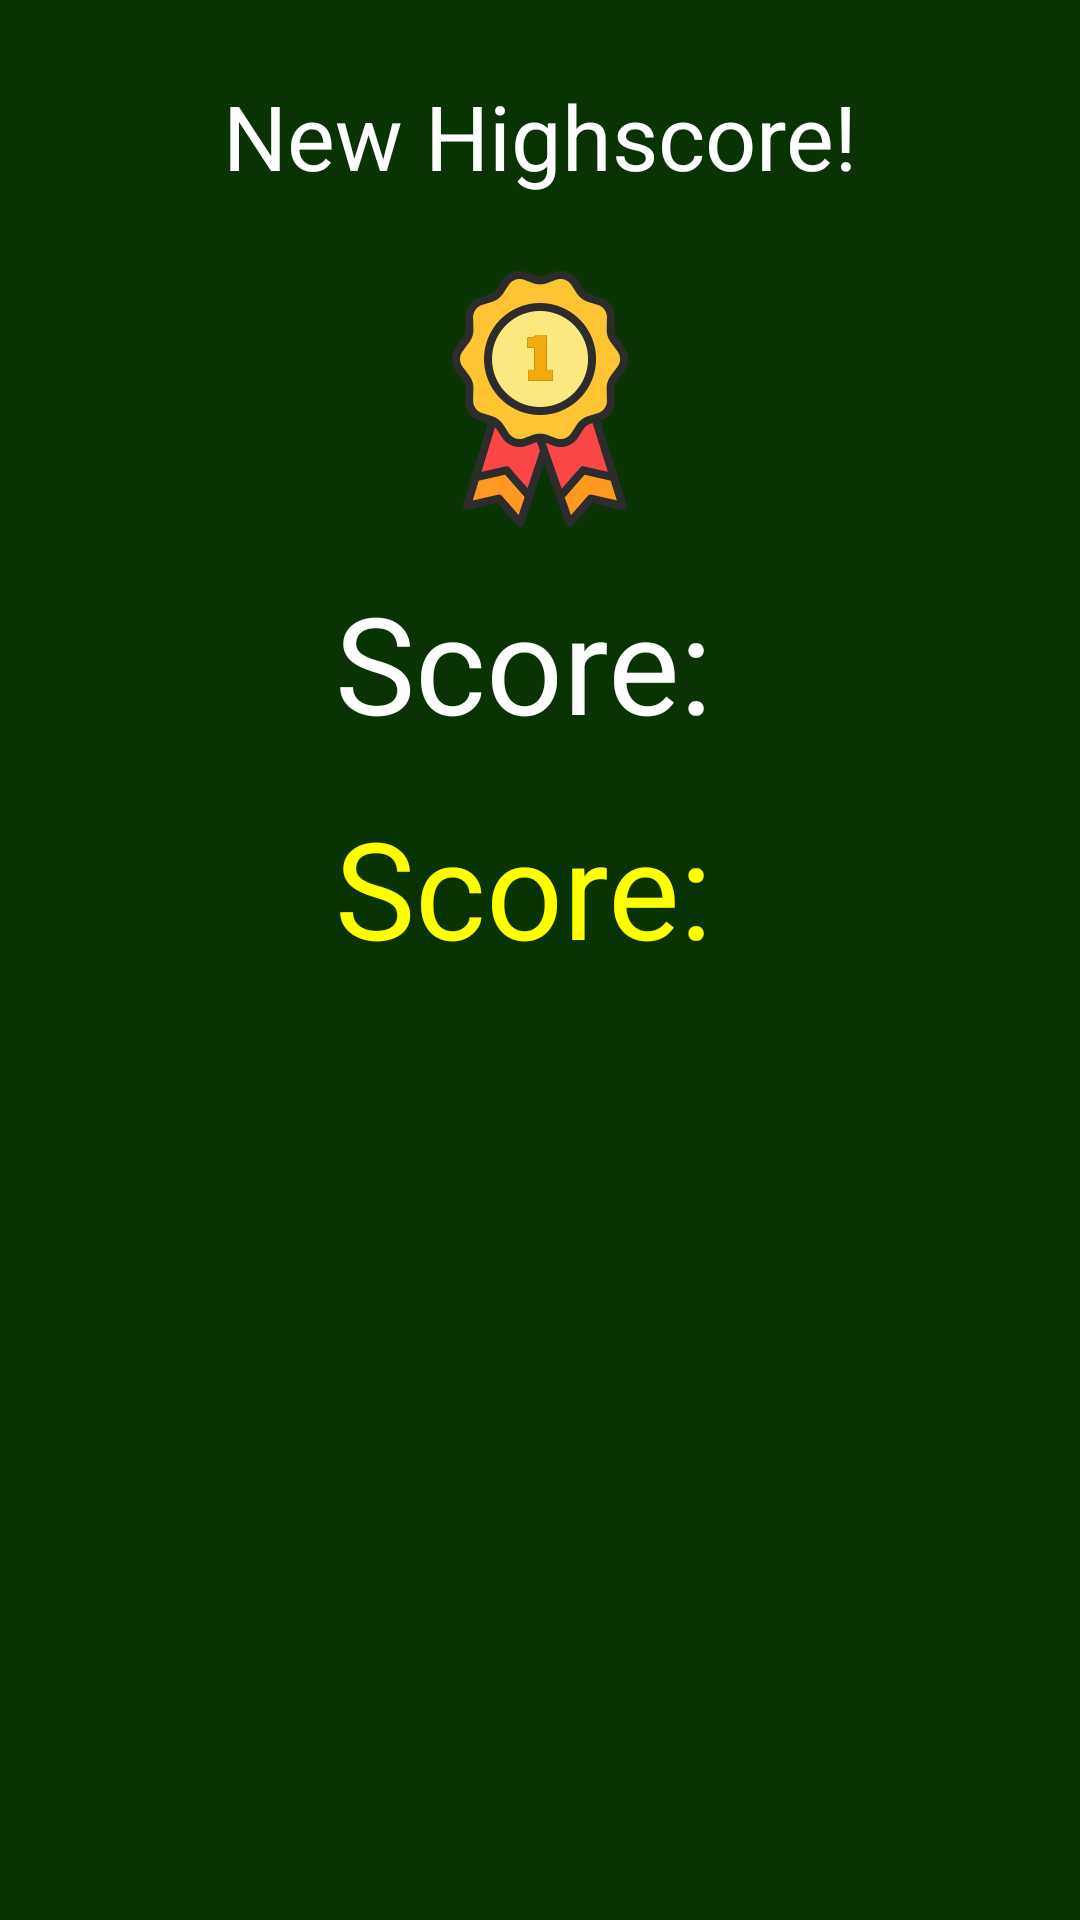

Locate icon controls on the screen. Image size 1080w x 1920h, boxes as Rect(x1, y1, x2, y2).
firstplace: Rect(452, 271, 628, 527)
